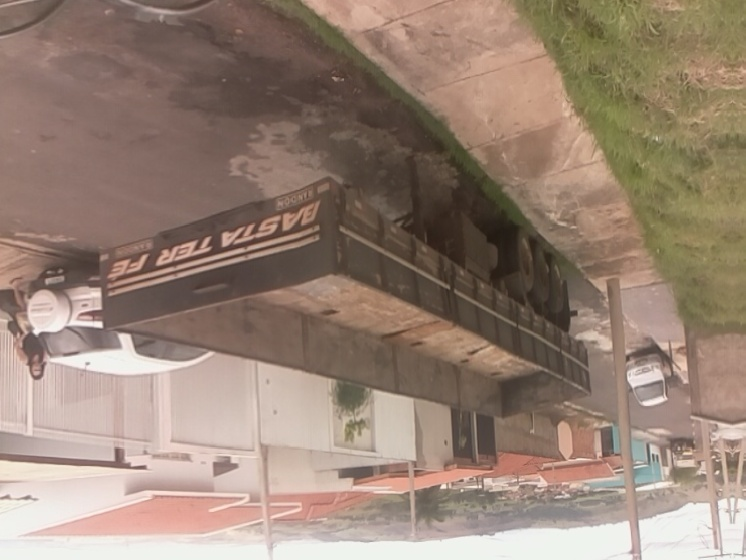person: (6, 275, 50, 381)
